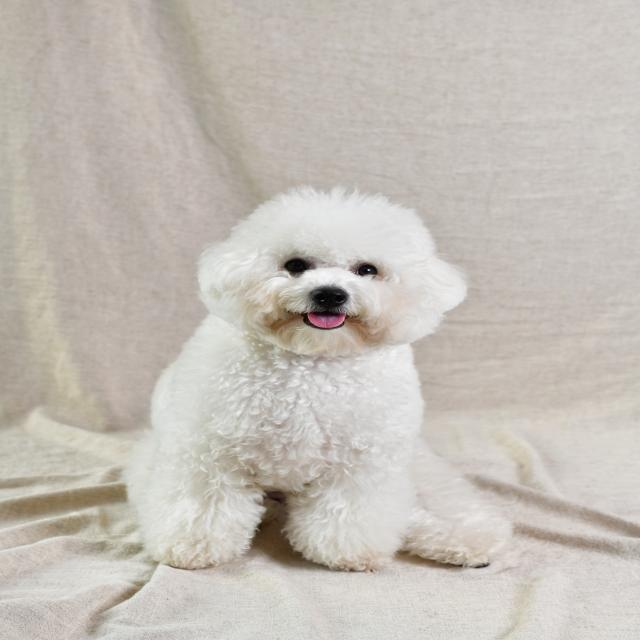dog: (126, 187, 516, 569)
